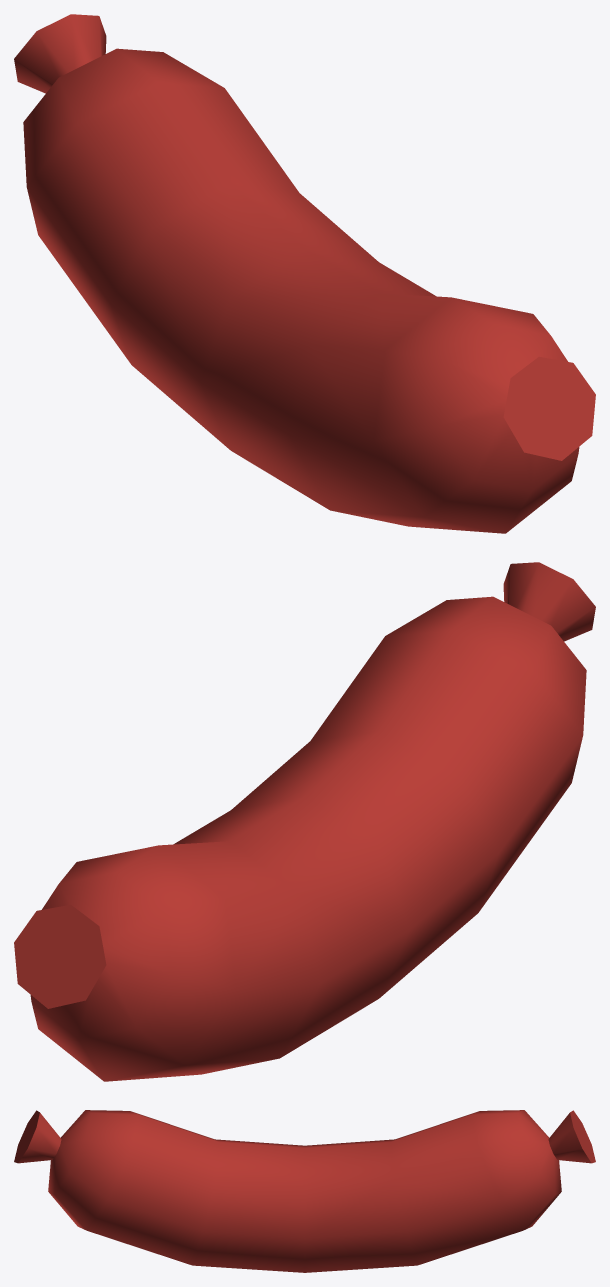
File: Sausage_Raw.fbx
The picture shows the model from 3 angles, top to bottom: view 1: azimuth 30°, elevation 25°; view 2: azimuth 150°, elevation 25°; view 3: azimuth 270°, elevation 25°; orthographic projection. The views are drawn at different scales.
Parts seen in each view (by area): view 1: Sausage_Raw; view 2: Sausage_Raw; view 3: Sausage_Raw.
Part boxes in pixels (<box>): Sausage_Raw: <box>14,14,595,533</box>; Sausage_Raw: <box>14,562,595,1081</box>; Sausage_Raw: <box>14,1110,595,1272</box>.
Bounding box in the file's own units: 14.6 × 18.56 × 61.99.
